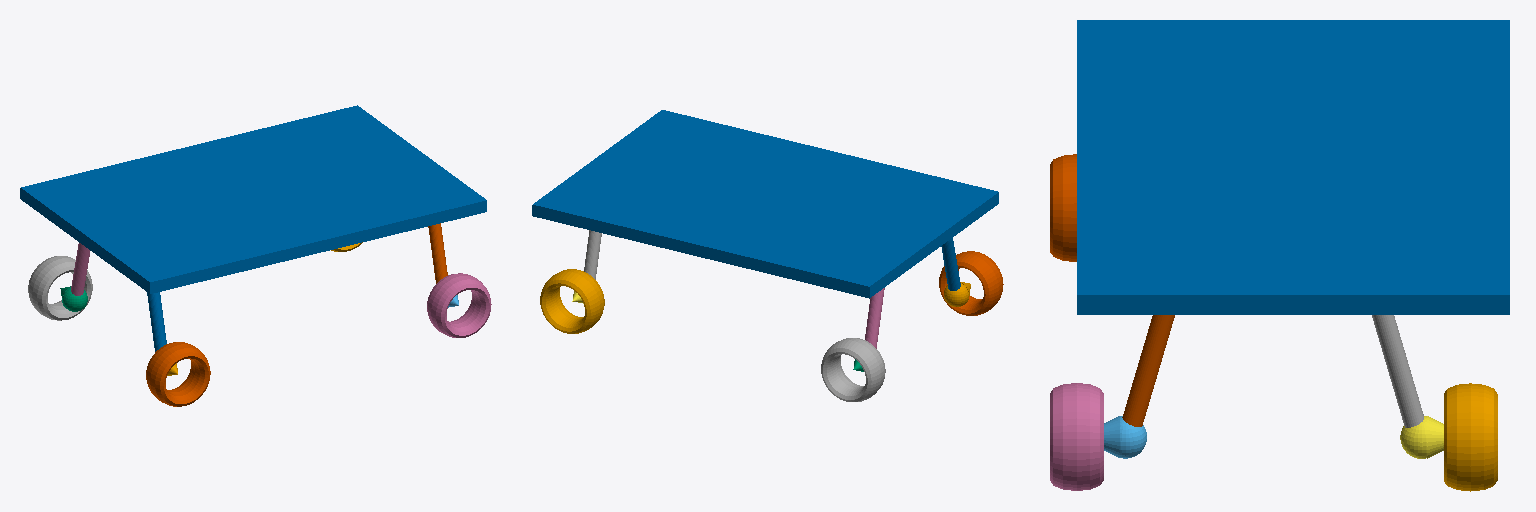
robot.urdf — robot:
<robot name="robot" version="1.0">
  <joint name="Cone_link_joint" type="fixed">
    <origin rpy="1.57080 0.00000 0.00000" xyz="0.00000 -0.12479 0.00000"/>
    <parent link="Sphere_link"/>
    <child link="Cone_link"/>
  </joint>
  <joint name="Cone_w2_link_joint" type="fixed">
    <origin rpy="1.57080 0.00000 0.00000" xyz="-0.00000 -0.12479 -0.00000"/>
    <parent link="Sphere_w2_link"/>
    <child link="Cone_w2_link"/>
  </joint>
  <joint name="Cone_w3_link_joint" type="fixed">
    <origin rpy="1.57080 -0.00000 -0.00000" xyz="-0.00000 -0.12479 0.00000"/>
    <parent link="Sphere_w3_link"/>
    <child link="Cone_w3_link"/>
  </joint>
  <joint name="Cone_w4_link_joint" type="fixed">
    <origin rpy="1.57080 -0.00000 -0.00000" xyz="0.00000 -0.12479 -0.00000"/>
    <parent link="Sphere_w4_link"/>
    <child link="Cone_w4_link"/>
  </joint>
  <joint name="Cylinder_link_joint" type="fixed">
    <origin rpy="-0.26180 0.00000 0.00000" xyz="-1.25000 -0.65807 -0.39906"/>
    <parent link="chasis_link"/>
    <child link="Cylinder_link"/>
  </joint>
  <joint name="Cylinder_w2_link_joint" type="fixed">
    <origin rpy="-0.26180 0.00000 0.00000" xyz="1.25000 -0.65807 -0.39860"/>
    <parent link="chasis_link"/>
    <child link="Cylinder_w2_link"/>
  </joint>
  <joint name="Cylinder_w3_link_joint" type="fixed">
    <origin rpy="-0.26180 -0.00000 -3.14159" xyz="-1.25000 0.47479 -0.40695"/>
    <parent link="chasis_link"/>
    <child link="Cylinder_w3_link"/>
  </joint>
  <joint name="Cylinder_w4_link_joint" type="fixed">
    <origin rpy="-0.26180 -0.00000 -3.14159" xyz="1.25000 0.47479 -0.40719"/>
    <parent link="chasis_link"/>
    <child link="Cylinder_w4_link"/>
  </joint>
  <joint name="Sphere_link_joint" type="fixed">
    <origin rpy="0.26180 0.00000 0.00000" xyz="0.00000 -0.01047 -0.41352"/>
    <parent link="Cylinder_link"/>
    <child link="Sphere_link"/>
  </joint>
  <joint name="Sphere_w2_link_joint" type="fixed">
    <origin rpy="0.26180 0.00000 0.00000" xyz="0.00000 -0.01047 -0.41352"/>
    <parent link="Cylinder_w2_link"/>
    <child link="Sphere_w2_link"/>
  </joint>
  <joint name="Sphere_w3_link_joint" type="fixed">
    <origin rpy="0.26180 0.00000 0.00000" xyz="-0.00000 -0.01267 -0.40736"/>
    <parent link="Cylinder_w3_link"/>
    <child link="Sphere_w3_link"/>
  </joint>
  <joint name="Sphere_w4_link_joint" type="fixed">
    <origin rpy="0.26180 0.00000 0.00000" xyz="-0.00000 -0.01267 -0.40736"/>
    <parent link="Cylinder_w4_link"/>
    <child link="Sphere_w4_link"/>
  </joint>
  <joint name="wheel_link_joint" type="continuous">
    <limit lower="0" upper="0" effort="0.00000" velocity="0.00000"/>
    <origin rpy="0.00000 0.00000 0.00000" xyz="0.00000 0.00000 0.10000"/>
    <parent link="Cone_link"/>
    <child link="wheel_link"/>
    <axis xyz="0.00000 0.00000 1.00000"/>
  </joint>
  <joint name="wheel_w2_link_joint" type="continuous">
    <limit lower="0" upper="0" effort="0.00000" velocity="0.00000"/>
    <origin rpy="0.00000 0.00000 0.00000" xyz="0.00000 0.00000 0.10000"/>
    <parent link="Cone_w2_link"/>
    <child link="wheel_w2_link"/>
    <axis xyz="0.00000 0.00000 1.00000"/>
  </joint>
  <joint name="wheel_w3_link_joint" type="continuous">
    <limit lower="0" upper="0" effort="0.00000" velocity="0.00000"/>
    <origin rpy="-0.00000 0.00000 -0.00000" xyz="-0.00000 -0.00000 0.10000"/>
    <parent link="Cone_w3_link"/>
    <child link="wheel_w3_link"/>
    <axis xyz="0.00000 0.00000 1.00000"/>
  </joint>
  <joint name="wheel_w4_link_joint" type="continuous">
    <limit lower="0" upper="0" effort="0.00000" velocity="0.00000"/>
    <origin rpy="-0.00000 0.00000 -0.00000" xyz="0.00000 -0.00000 0.10000"/>
    <parent link="Cone_w4_link"/>
    <child link="wheel_w4_link"/>
    <axis xyz="0.00000 0.00000 1.00000"/>
  </joint>
  <link name="Cone_link">
    <collision name="Cone_collision">
      <origin rpy="0.00000 0.00000 0.00000" xyz="0.00000 0.00000 0.00000"/>
      <geometry>
        <mesh filename="../meshes/dae/Cone.001.dae" scale="0.10000 0.10000 0.10000"/>
      </geometry>
    </collision>
    <inertial>
      <inertia ixx="0.00148" ixy="0.00000" ixz="-0.00000" iyy="0.00089" iyz="-0.00000" izz="0.00148"/>
      <origin rpy="0.00000 0.00000 0.00000" xyz="0.00000 -0.00000 -0.05000"/>
      <mass value="0.30000"/>
    </inertial>
    <visual name="Cone">
      <origin rpy="0.00000 0.00000 0.00000" xyz="0.00000 -0.00000 0.00000"/>
      <geometry>
        <mesh filename="../meshes/dae/Cone.001.dae" scale="0.10000 0.10000 0.10000"/>
      </geometry>
    </visual>
  </link>
  <link name="Cone_w2_link">
    <collision name="Cone_w2_collision">
      <origin rpy="0.00000 0.00000 0.00000" xyz="0.00000 -0.00000 -0.00000"/>
      <geometry>
        <mesh filename="../meshes/dae/Cone.002.dae" scale="0.10000 0.10000 0.10000"/>
      </geometry>
    </collision>
    <inertial>
      <inertia ixx="0.00148" ixy="0.00000" ixz="-0.00000" iyy="0.00089" iyz="-0.00000" izz="0.00148"/>
      <origin rpy="0.00000 0.00000 0.00000" xyz="0.00000 -0.00000 -0.05000"/>
      <mass value="0.30000"/>
    </inertial>
    <visual name="Cone_w2">
      <origin rpy="0.00000 0.00000 0.00000" xyz="0.00000 -0.00000 -0.00000"/>
      <geometry>
        <mesh filename="../meshes/dae/Cone.002.dae" scale="0.10000 0.10000 0.10000"/>
      </geometry>
    </visual>
  </link>
  <link name="Cone_w3_link">
    <collision name="Cone_w3_collision">
      <origin rpy="0.00000 0.00000 -3.14159" xyz="0.00000 -0.00000 0.00000"/>
      <geometry>
        <mesh filename="../meshes/dae/Cone.003.dae" scale="0.10000 0.10000 0.10000"/>
      </geometry>
    </collision>
    <inertial>
      <inertia ixx="0.00148" ixy="0.00000" ixz="0.00000" iyy="0.00089" iyz="0.00000" izz="0.00148"/>
      <origin rpy="0.00000 0.00000 0.00000" xyz="0.00000 -0.00000 -0.05000"/>
      <mass value="0.30000"/>
    </inertial>
    <visual name="Cone_w3">
      <origin rpy="-0.00000 0.00000 -0.00000" xyz="0.00000 -0.00000 0.00000"/>
      <geometry>
        <mesh filename="../meshes/dae/Cone.003.dae" scale="0.10000 0.10000 0.10000"/>
      </geometry>
    </visual>
  </link>
  <link name="Cone_w4_link">
    <collision name="Cone_w4_collision">
      <origin rpy="0.00000 0.00000 -3.14159" xyz="0.00000 -0.00000 0.00000"/>
      <geometry>
        <mesh filename="../meshes/dae/Cone.007.dae" scale="0.10000 0.10000 0.10000"/>
      </geometry>
    </collision>
    <inertial>
      <inertia ixx="0.00148" ixy="0.00000" ixz="0.00000" iyy="0.00089" iyz="0.00000" izz="0.00148"/>
      <origin rpy="0.00000 0.00000 0.00000" xyz="0.00000 -0.00000 -0.05000"/>
      <mass value="0.30000"/>
    </inertial>
    <visual name="Cone_w4">
      <origin rpy="-0.00000 0.00000 -0.00000" xyz="0.00000 -0.00000 0.00000"/>
      <geometry>
        <mesh filename="../meshes/dae/Cone.007.dae" scale="0.10000 0.10000 0.10000"/>
      </geometry>
    </visual>
  </link>
  <link name="Cylinder_link">
    <collision name="Cylinder_collision">
      <origin rpy="0.00000 0.00000 0.00000" xyz="0.00000 0.00000 0.00000"/>
      <geometry>
        <cylinder radius="0.05000" length="0.75000"/>
      </geometry>
    </collision>
    <inertial>
      <inertia ixx="0.03800" ixy="0.00000" ixz="0.00000" iyy="0.03552" iyz="-0.00925" izz="0.00348"/>
      <origin rpy="0.00000 0.00000 0.00000" xyz="0.00000 0.00000 -0.00000"/>
      <mass value="0.80000"/>
    </inertial>
    <visual name="Cylinder">
      <origin rpy="0.00000 0.00000 0.00000" xyz="0.00000 0.00000 -0.00000"/>
      <geometry>
        <cylinder radius="0.05000" length="0.75000"/>
      </geometry>
    </visual>
  </link>
  <link name="Cylinder_w2_link">
    <collision name="Cylinder_w2_collision">
      <origin rpy="0.00000 0.00000 0.00000" xyz="0.00000 0.00000 -0.00000"/>
      <geometry>
        <cylinder radius="0.05000" length="0.75000"/>
      </geometry>
    </collision>
    <inertial>
      <inertia ixx="0.03800" ixy="0.00000" ixz="0.00000" iyy="0.03552" iyz="-0.00925" izz="0.00348"/>
      <origin rpy="0.00000 0.00000 0.00000" xyz="0.00000 0.00000 -0.00000"/>
      <mass value="0.80000"/>
    </inertial>
    <visual name="Cylinder_w2">
      <origin rpy="0.00000 0.00000 0.00000" xyz="0.00000 0.00000 -0.00000"/>
      <geometry>
        <cylinder radius="0.05000" length="0.75000"/>
      </geometry>
    </visual>
  </link>
  <link name="Cylinder_w3_link">
    <collision name="Cylinder_w3_collision">
      <origin rpy="-0.00000 -0.00000 3.14159" xyz="0.00000 -0.00000 0.00000"/>
      <geometry>
        <cylinder radius="0.05000" length="0.75000"/>
      </geometry>
    </collision>
    <inertial>
      <inertia ixx="0.03800" ixy="0.00000" ixz="-0.00000" iyy="0.03552" iyz="0.00925" izz="0.00348"/>
      <origin rpy="0.00000 0.00000 0.00000" xyz="0.00000 -0.00000 0.00000"/>
      <mass value="0.80000"/>
    </inertial>
    <visual name="Cylinder_w3">
      <origin rpy="0.00000 -0.00000 0.00000" xyz="0.00000 -0.00000 0.00000"/>
      <geometry>
        <cylinder radius="0.05000" length="0.75000"/>
      </geometry>
    </visual>
  </link>
  <link name="Cylinder_w4_link">
    <collision name="Cylinder_w4_collision">
      <origin rpy="-0.00000 -0.00000 3.14159" xyz="-0.00000 0.00000 0.00000"/>
      <geometry>
        <cylinder radius="0.05000" length="0.75000"/>
      </geometry>
    </collision>
    <inertial>
      <inertia ixx="0.03800" ixy="0.00000" ixz="-0.00000" iyy="0.03552" iyz="0.00925" izz="0.00348"/>
      <origin rpy="0.00000 0.00000 0.00000" xyz="-0.00000 0.00000 0.00000"/>
      <mass value="0.80000"/>
    </inertial>
    <visual name="Cylinder_w4">
      <origin rpy="0.00000 -0.00000 0.00000" xyz="-0.00000 -0.00000 0.00000"/>
      <geometry>
        <cylinder radius="0.05000" length="0.75000"/>
      </geometry>
    </visual>
  </link>
  <link name="Sphere_link">
    <collision name="Sphere_collision">
      <origin rpy="0.00000 0.00000 0.00000" xyz="0.00000 0.00000 0.00000"/>
      <geometry>
        <sphere radius="0.10000"/>
      </geometry>
    </collision>
    <inertial>
      <inertia ixx="0.00120" ixy="0.00000" ixz="0.00000" iyy="0.00120" iyz="0.00000" izz="0.00120"/>
      <origin rpy="0.00000 0.00000 0.00000" xyz="0.00000 0.00000 0.00000"/>
      <mass value="0.30000"/>
    </inertial>
    <visual name="Sphere">
      <origin rpy="0.00000 0.00000 0.00000" xyz="0.00000 0.00000 0.00000"/>
      <geometry>
        <sphere radius="0.10000"/>
      </geometry>
    </visual>
  </link>
  <link name="Sphere_w2_link">
    <collision name="Sphere_w2_collision">
      <origin rpy="0.00000 0.00000 0.00000" xyz="-0.00000 -0.00000 -0.00000"/>
      <geometry>
        <sphere radius="0.10000"/>
      </geometry>
    </collision>
    <inertial>
      <inertia ixx="0.00120" ixy="0.00000" ixz="0.00000" iyy="0.00120" iyz="0.00000" izz="0.00120"/>
      <origin rpy="0.00000 0.00000 0.00000" xyz="-0.00000 -0.00000 0.00000"/>
      <mass value="0.30000"/>
    </inertial>
    <visual name="Sphere_w2">
      <origin rpy="0.00000 0.00000 0.00000" xyz="-0.00000 -0.00000 0.00000"/>
      <geometry>
        <sphere radius="0.10000"/>
      </geometry>
    </visual>
  </link>
  <link name="Sphere_w3_link">
    <collision name="Sphere_w3_collision">
      <origin rpy="0.00000 0.00000 3.14159" xyz="0.00000 -0.00000 -0.00000"/>
      <geometry>
        <sphere radius="0.10000"/>
      </geometry>
    </collision>
    <inertial>
      <inertia ixx="0.00120" ixy="0.00000" ixz="0.00000" iyy="0.00120" iyz="-0.00000" izz="0.00120"/>
      <origin rpy="0.00000 0.00000 0.00000" xyz="0.00000 -0.00000 -0.00000"/>
      <mass value="0.30000"/>
    </inertial>
    <visual name="Sphere_w3">
      <origin rpy="0.00000 0.00000 0.00000" xyz="0.00000 -0.00000 -0.00000"/>
      <geometry>
        <sphere radius="0.10000"/>
      </geometry>
    </visual>
  </link>
  <link name="Sphere_w4_link">
    <collision name="Sphere_w4_collision">
      <origin rpy="0.00000 0.00000 3.14159" xyz="0.00000 -0.00000 -0.00000"/>
      <geometry>
        <sphere radius="0.10000"/>
      </geometry>
    </collision>
    <inertial>
      <inertia ixx="0.00120" ixy="0.00000" ixz="0.00000" iyy="0.00120" iyz="-0.00000" izz="0.00120"/>
      <origin rpy="0.00000 0.00000 0.00000" xyz="0.00000 -0.00000 -0.00000"/>
      <mass value="0.30000"/>
    </inertial>
    <visual name="Sphere_w4">
      <origin rpy="0.00000 0.00000 0.00000" xyz="0.00000 -0.00000 -0.00000"/>
      <geometry>
        <sphere radius="0.10000"/>
      </geometry>
    </visual>
  </link>
  <link name="chasis_link">
    <collision name="chasis_collision">
      <origin rpy="0.00000 0.00000 0.00000" xyz="0.00000 0.00000 -0.00632"/>
      <geometry>
        <mesh filename="../meshes/dae/Cube.004.dae" scale="1.50000 1.00000 0.05000"/>
      </geometry>
    </collision>
    <inertial>
      <inertia ixx="1.67083" ixy="0.00000" ixz="0.00000" iyy="3.75417" iyz="0.00000" izz="5.41667"/>
      <origin rpy="0.00000 0.00000 0.00000" xyz="0.00000 0.00000 0.01760"/>
      <mass value="5.00000"/>
    </inertial>
    <visual name="chasis">
      <origin rpy="0.00000 0.00000 0.00000" xyz="0.00000 0.00000 -0.00632"/>
      <geometry>
        <box size="3.00000 2.00000 0.10000"/>
      </geometry>
    </visual>
  </link>
  <link name="wheel_link">
    <collision name="wheel_collision">
      <origin rpy="0.00000 0.00000 0.00000" xyz="0.00000 0.00000 0.00000"/>
      <geometry>
        <mesh filename="../meshes/dae/Torus.dae" scale="0.20000 0.20000 0.50000"/>
      </geometry>
    </collision>
    <inertial>
      <inertia ixx="0.01774" ixy="0.00000" ixz="0.00000" iyy="0.02932" iyz="0.00000" izz="0.01774"/>
      <origin rpy="0.00000 0.00000 0.00000" xyz="0.00000 -0.00000 -0.00000"/>
      <mass value="1.00000"/>
    </inertial>
    <visual name="wheel">
      <origin rpy="0.00000 0.00000 0.00000" xyz="0.00000 0.00000 0.00000"/>
      <geometry>
        <mesh filename="../meshes/dae/Torus.dae" scale="0.20000 0.20000 0.50000"/>
      </geometry>
    </visual>
  </link>
  <link name="wheel_w2_link">
    <collision name="wheel_w2_collision">
      <origin rpy="0.00000 0.00000 0.00000" xyz="-0.00000 -0.00000 0.00000"/>
      <geometry>
        <mesh filename="../meshes/dae/Torus.001.dae" scale="0.20000 0.20000 0.50000"/>
      </geometry>
    </collision>
    <inertial>
      <inertia ixx="0.01774" ixy="0.00000" ixz="0.00000" iyy="0.02932" iyz="0.00000" izz="0.01774"/>
      <origin rpy="0.00000 0.00000 0.00000" xyz="-0.00000 -0.00000 0.00000"/>
      <mass value="1.00000"/>
    </inertial>
    <visual name="wheel_w2">
      <origin rpy="0.00000 0.00000 0.00000" xyz="-0.00000 -0.00000 0.00000"/>
      <geometry>
        <mesh filename="../meshes/dae/Torus.001.dae" scale="0.20000 0.20000 0.50000"/>
      </geometry>
    </visual>
  </link>
  <link name="wheel_w3_link">
    <collision name="wheel_w3_collision">
      <origin rpy="-3.14159 0.00000 -3.14159" xyz="0.00000 -0.00000 0.00000"/>
      <geometry>
        <mesh filename="../meshes/dae/Torus.002.dae" scale="0.20000 0.20000 0.50000"/>
      </geometry>
    </collision>
    <inertial>
      <inertia ixx="0.01774" ixy="-0.00000" ixz="-0.00000" iyy="0.02932" iyz="-0.00000" izz="0.01774"/>
      <origin rpy="0.00000 0.00000 0.00000" xyz="0.00000 -0.00000 0.00000"/>
      <mass value="1.00000"/>
    </inertial>
    <visual name="wheel_w3">
      <origin rpy="-0.00000 -0.00000 0.00000" xyz="0.00000 -0.00000 0.00000"/>
      <geometry>
        <mesh filename="../meshes/dae/Torus.002.dae" scale="0.20000 0.20000 0.50000"/>
      </geometry>
    </visual>
  </link>
  <link name="wheel_w4_link">
    <collision name="wheel_w4_collision">
      <origin rpy="-3.14159 0.00000 -3.14159" xyz="-0.00000 -0.00000 0.00000"/>
      <geometry>
        <mesh filename="../meshes/dae/Torus.006.dae" scale="0.20000 0.20000 0.50000"/>
      </geometry>
    </collision>
    <inertial>
      <inertia ixx="0.01774" ixy="-0.00000" ixz="-0.00000" iyy="0.02932" iyz="-0.00000" izz="0.01774"/>
      <origin rpy="0.00000 0.00000 0.00000" xyz="0.00000 -0.00000 0.00000"/>
      <mass value="1.00000"/>
    </inertial>
    <visual name="wheel_w4">
      <origin rpy="-0.00000 -0.00000 0.00000" xyz="0.00000 -0.00000 0.00000"/>
      <geometry>
        <mesh filename="../meshes/dae/Torus.006.dae" scale="0.20000 0.20000 0.50000"/>
      </geometry>
    </visual>
  </link>
</robot>

--- Facts derived from the render (not from the file) ---
Views: 3 orthographic renders of the robot side by side, from view 1: azimuth 30°, elevation 25°; view 2: azimuth 150°, elevation 25°; view 3: azimuth 270°, elevation 25°.
Robot: robot — 17 links, 16 joints (4 continuous, 12 fixed); root link chasis_link; default pose: every joint at zero.
Links seen in each view (by area): view 1: chasis_link, wheel_link, wheel_w2_link, wheel_w3_link, Cylinder_link, Cylinder_w2_link, Cylinder_w3_link; view 2: chasis_link, wheel_w4_link, wheel_w3_link, wheel_link, Cylinder_w3_link, Cylinder_link, Cylinder_w4_link; view 3: chasis_link, wheel_w2_link, wheel_w4_link, wheel_link, Cylinder_w4_link, Cylinder_w2_link, Sphere_w2_link, Sphere_w4_link, Cone_w4_link, Cone_w2_link.
Link boxes in pixels (x1,y1,x2,y2): chasis_link: [20, 105, 486, 293]; wheel_link: [146, 342, 210, 406]; wheel_w2_link: [427, 273, 491, 337]; wheel_w3_link: [28, 256, 92, 320]; Cylinder_link: [147, 292, 166, 351]; Cylinder_w2_link: [428, 223, 447, 283]; Cylinder_w3_link: [71, 243, 89, 295]; chasis_link: [532, 110, 998, 298]; wheel_w4_link: [540, 269, 604, 333]; wheel_w3_link: [821, 338, 885, 401]; wheel_link: [939, 251, 1003, 315]; Cylinder_w3_link: [865, 288, 884, 348]; Cylinder_link: [941, 238, 960, 290]; Cylinder_w4_link: [584, 230, 601, 279]; chasis_link: [1077, 20, 1509, 314]; wheel_w2_link: [1050, 383, 1103, 490]; wheel_w4_link: [1444, 383, 1497, 491]; wheel_link: [1050, 154, 1076, 261]; Cylinder_w4_link: [1372, 315, 1423, 427]; Cylinder_w2_link: [1122, 315, 1174, 426]; Sphere_w2_link: [1120, 416, 1146, 458]; Sphere_w4_link: [1400, 416, 1426, 458]; Cone_w4_link: [1427, 416, 1443, 458]; Cone_w2_link: [1104, 416, 1119, 457].
Bounding box of the posed robot: 3 × 2.12 × 1.09 m (x, y, z).
Meshes: 8 distinct files referenced, 8 mesh visuals loaded (8 Collada DAE).